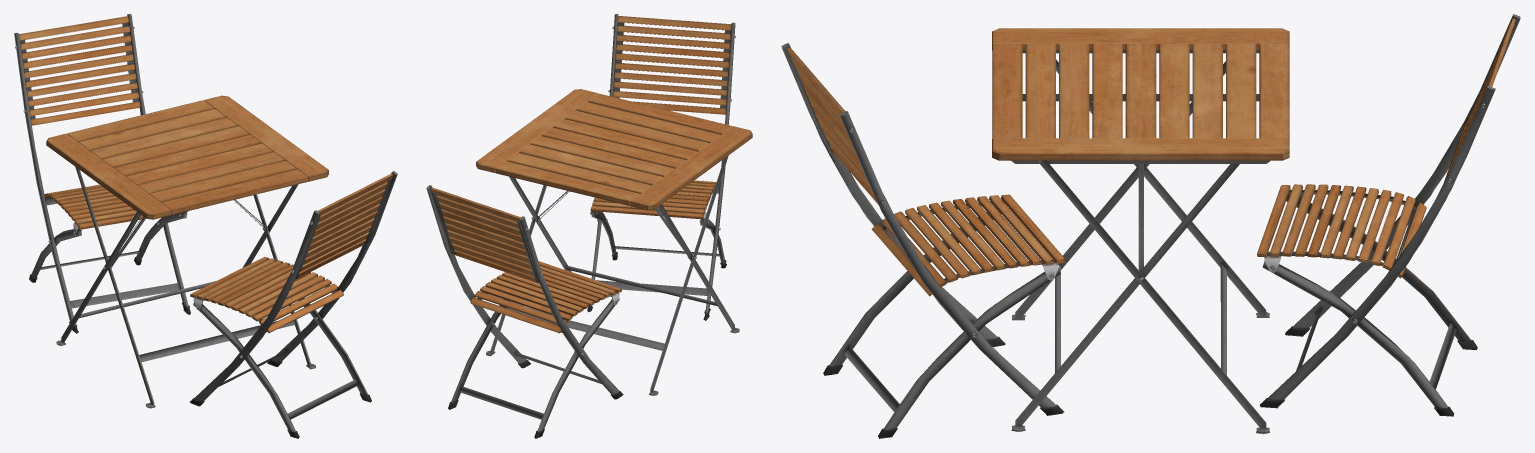
The model's file is ph_outdoor_table_chair_set_01.glb.
The picture shows the model from 3 angles, left to right: view 1: azimuth 30°, elevation 25°; view 2: azimuth 150°, elevation 25°; view 3: azimuth 270°, elevation 25°; orthographic projection. The views are drawn at different scales.
Visible parts, largest first — view 1: outdoor_table_chair_set_01_chair_01; view 2: outdoor_table_chair_set_01_chair_01; view 3: outdoor_table_chair_set_01_chair_01.
Part boxes in pixels (box(x1,y1,x2,y2)): outdoor_table_chair_set_01_chair_01: box(14, 14, 397, 438); outdoor_table_chair_set_01_chair_01: box(426, 14, 752, 438); outdoor_table_chair_set_01_chair_01: box(781, 14, 1520, 438).
Bounding box in the file's own units: 0.742 × 0.8586 × 1.72.
Materials: 2 (2 with a texture image).
